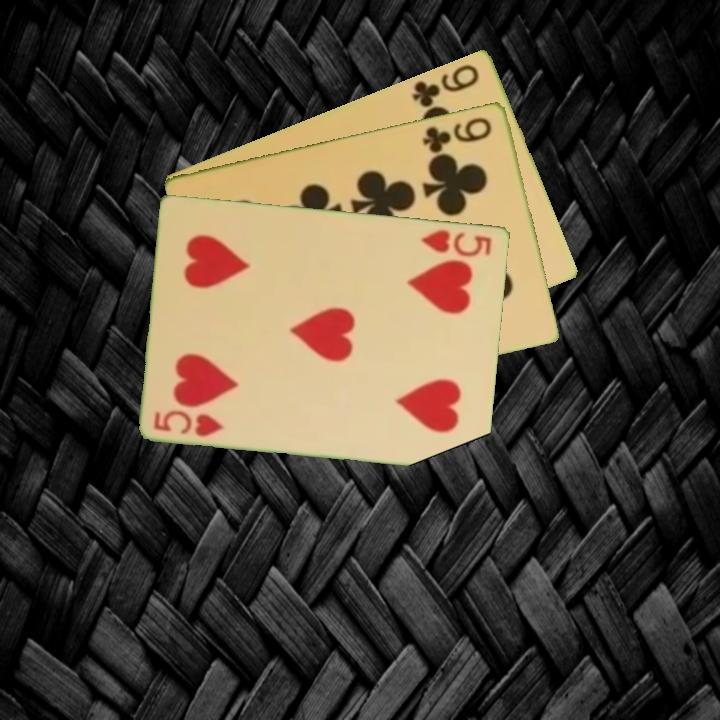5h: (418, 226, 495, 260), (150, 406, 227, 439)
9c: (409, 60, 482, 110), (419, 113, 495, 155)
